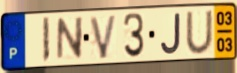3: (121, 12, 146, 60)
I: (41, 16, 51, 65)
J: (159, 11, 182, 56)
N: (55, 16, 85, 63)
U: (184, 9, 215, 56)
V: (88, 13, 119, 61)
